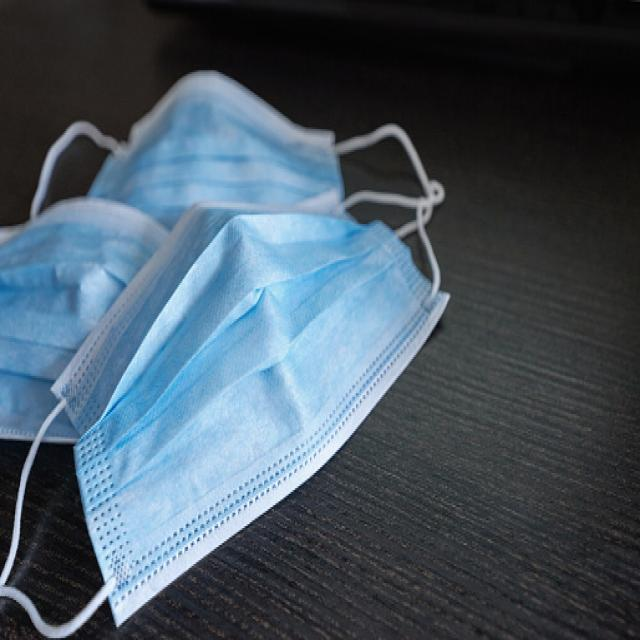face mask: (0, 68, 446, 640)
